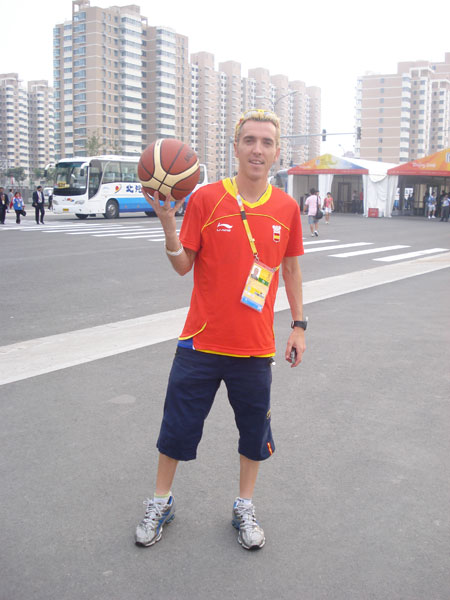basketball: (137, 138, 199, 202)
